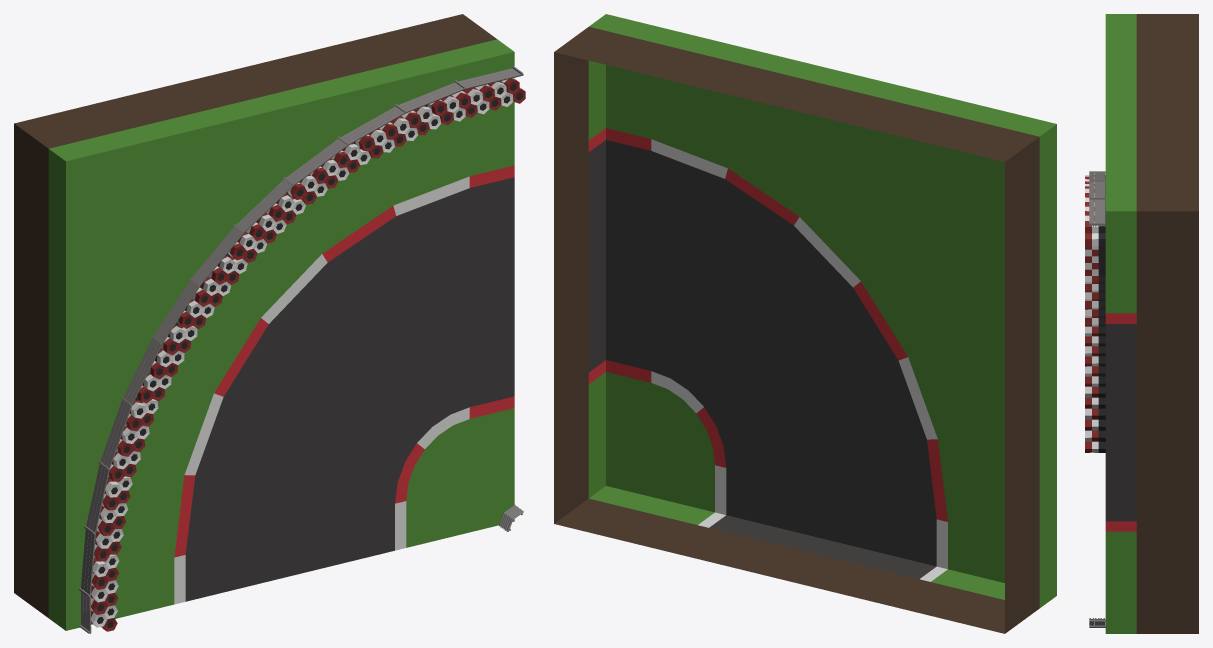
Rendered from race_grass_curve.glb.
3 views of the same model, side by side, from view 1: azimuth 30°, elevation 25°; view 2: azimuth 150°, elevation 25°; view 3: azimuth 270°, elevation 25° (orthographic). The views are drawn at different scales.
Parts seen in each view (by area): view 1: tile-race-track-curve; view 2: tile-race-track-curve; view 3: tile-race-track-curve.
Boxes of the visible parts, x1=… form: tile-race-track-curve: x1=14, y1=14, x2=525, y2=633; tile-race-track-curve: x1=554, y1=14, x2=1056, y2=633; tile-race-track-curve: x1=1085, y1=14, x2=1198, y2=633.
Bounding box in the file's own units: 30 × 30 × 7.32.
Materials: 1 (1 with a texture image).
